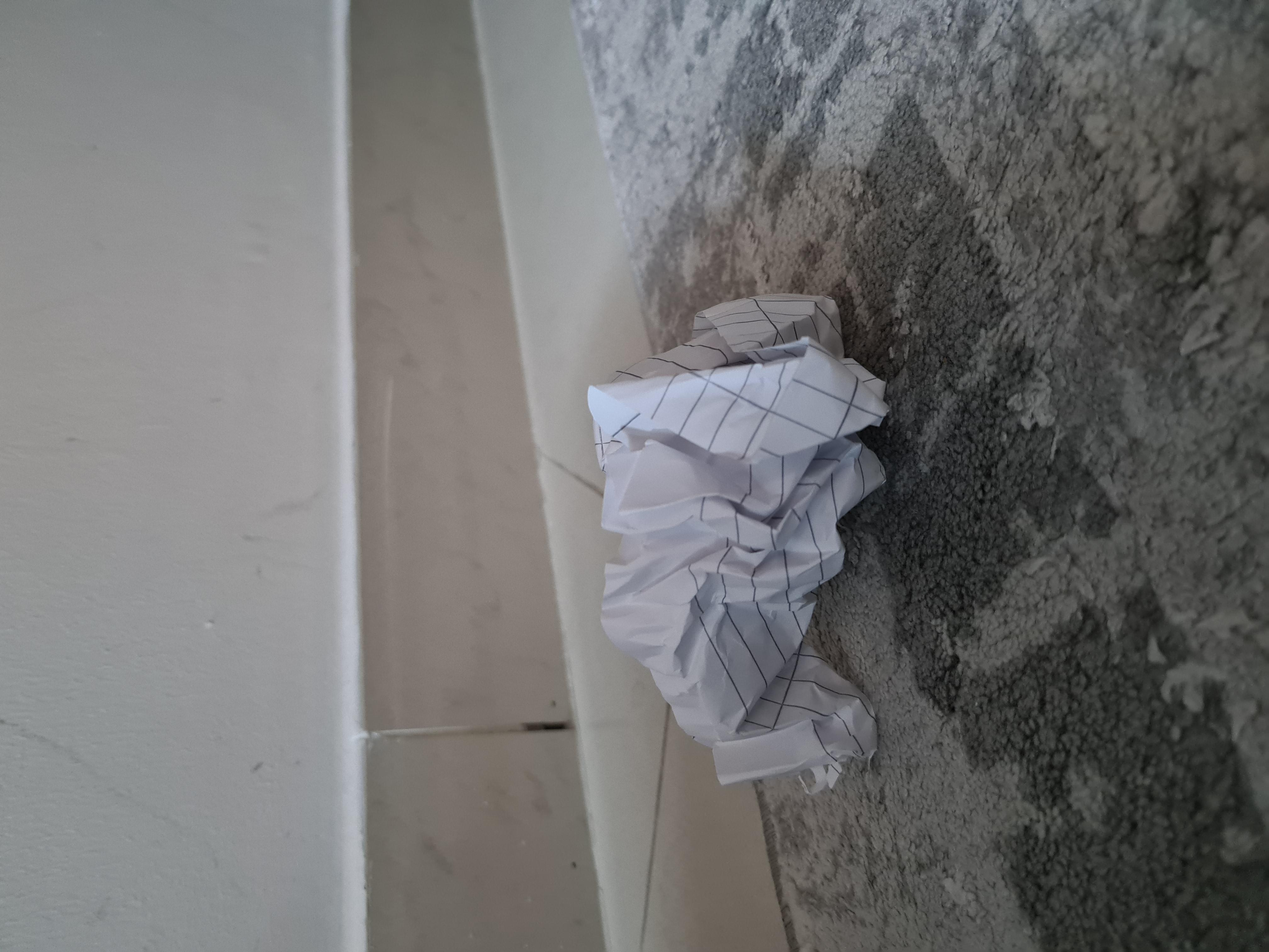paper: (186, 435, 898, 662)
